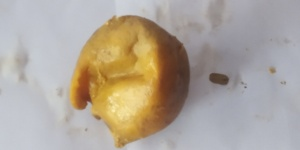BAD: (69, 12, 192, 145)
